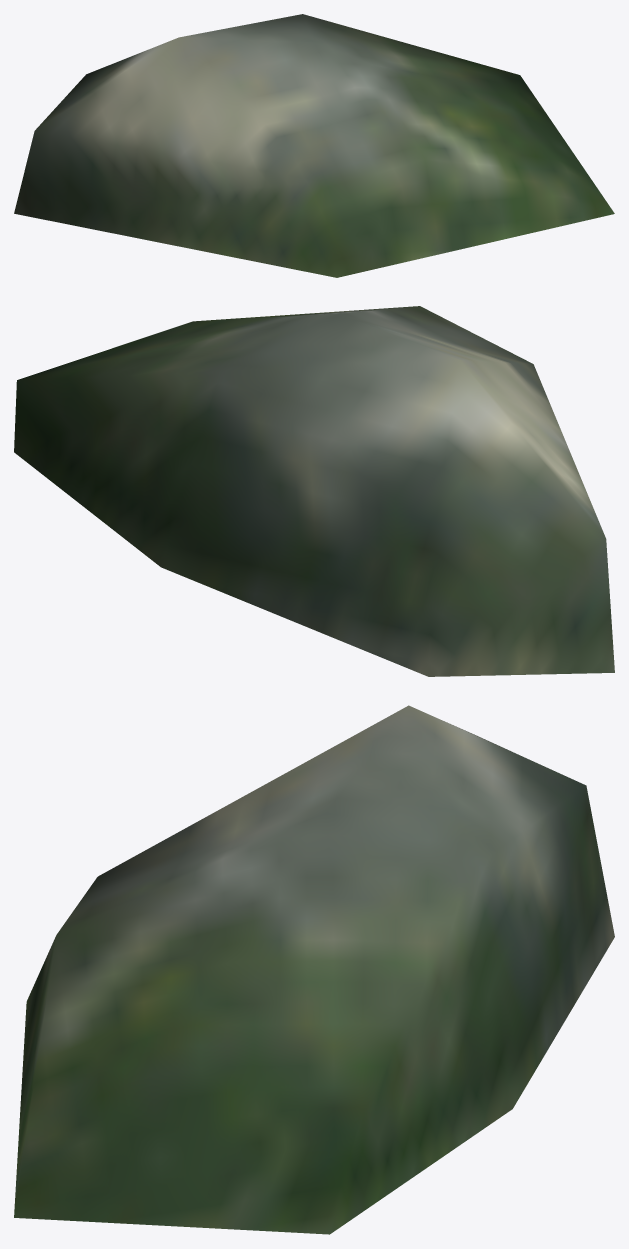
The model's file is 4004_Item_shitou_16.FBX.
3 renders of one model, top to bottom at view 1: azimuth 30°, elevation 25°; view 2: azimuth 150°, elevation 25°; view 3: azimuth 270°, elevation 25°, orthographic. The views are drawn at different scales.
Parts seen in each view (by area): view 1: 4004_Item_shitou_16; view 2: 4004_Item_shitou_16; view 3: 4004_Item_shitou_16.
Boxes of the visible parts, x1,y1,x2,y2 form: 4004_Item_shitou_16: (14,14,614,277); 4004_Item_shitou_16: (14,306,614,676); 4004_Item_shitou_16: (14,705,614,1234).
Bounding box in the file's own units: 34.13 × 11.32 × 23.3.
